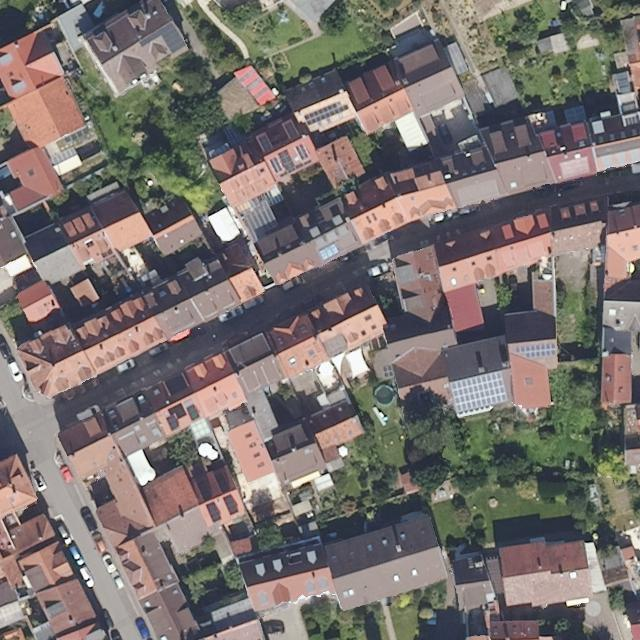PV: (449, 370, 510, 413), (137, 21, 187, 55), (303, 99, 350, 127), (509, 340, 556, 361), (317, 242, 341, 262), (617, 151, 627, 167), (602, 154, 611, 169), (630, 148, 639, 163), (383, 365, 393, 378)
